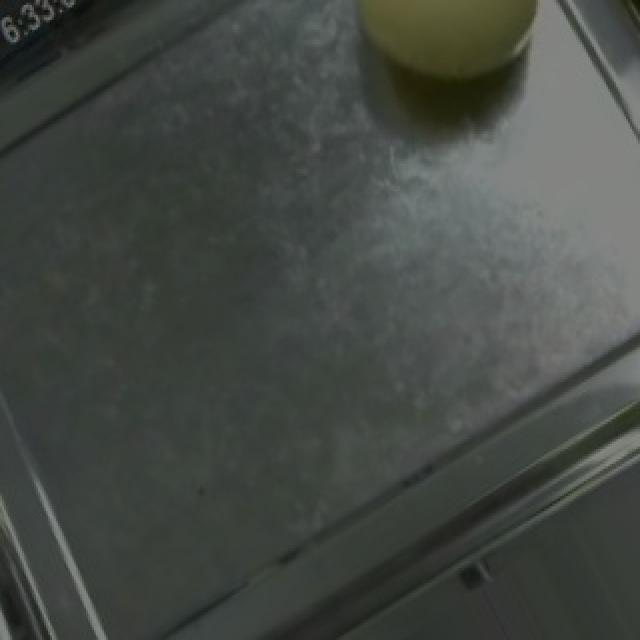Fruit: (316, 0, 576, 122)
